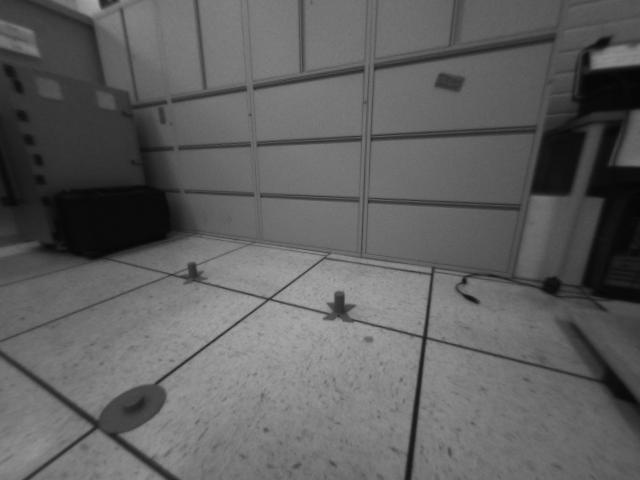X: (322, 290, 356, 325), (179, 261, 209, 283)
